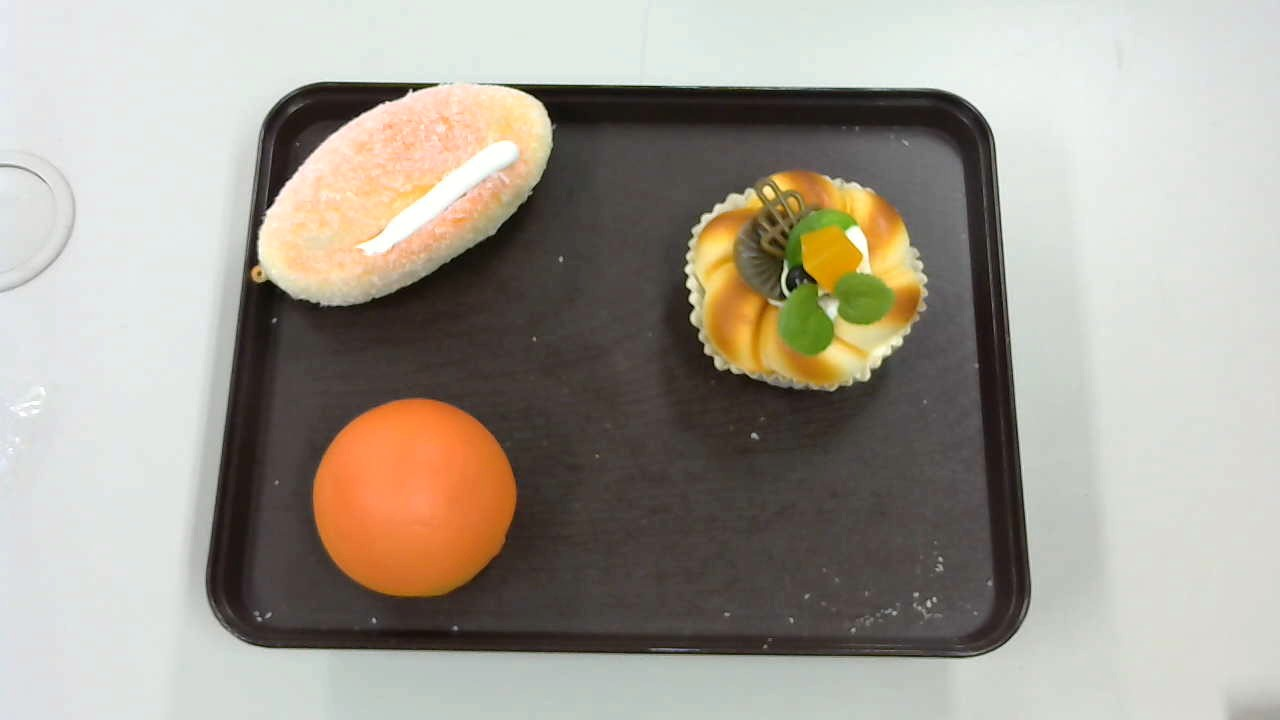bun: (308, 398, 518, 598)
coconut: (252, 83, 554, 307)
fruit tart: (684, 168, 929, 392)
